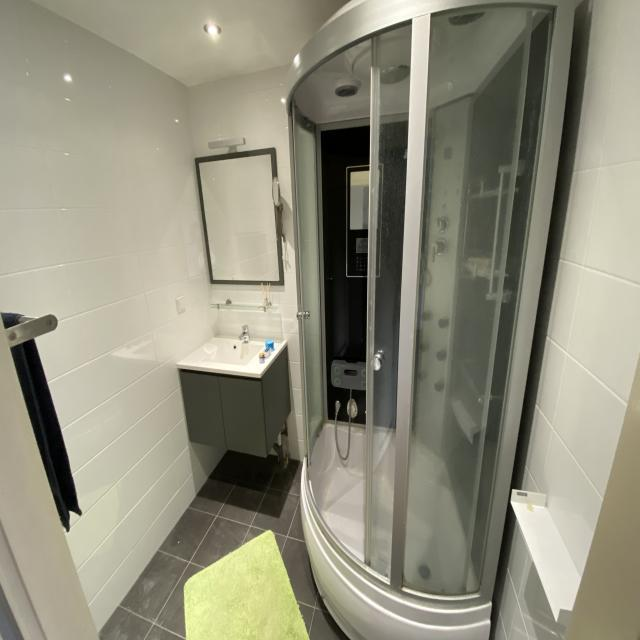douche: (284, 4, 590, 640)
wastafel: (174, 368, 294, 462), (175, 331, 290, 378)
